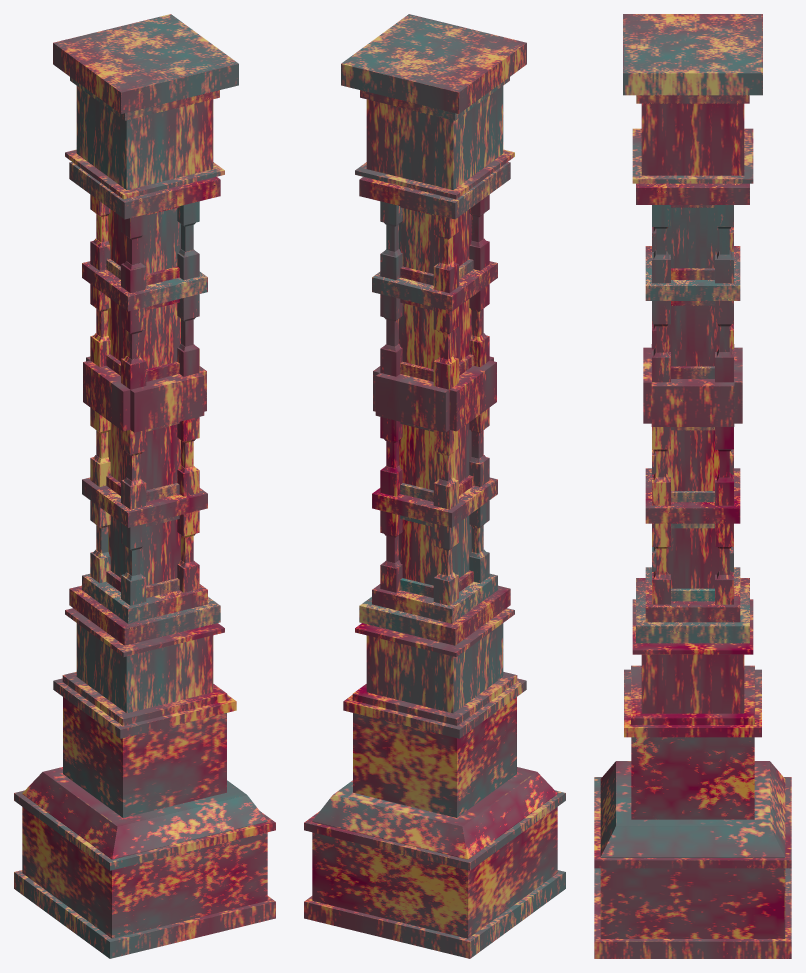
Rendered from desert stone pillar.fbx.
The picture shows the model from 3 angles, left to right: view 1: azimuth 30°, elevation 25°; view 2: azimuth 150°, elevation 25°; view 3: azimuth 270°, elevation 25°; orthographic projection. The views are drawn at different scales.
Parts seen in each view (by area): view 1: support cubes.001, cube 8.002, cube 1.002, tiny pillar 1.002, cube 7.002, cube 5.002, cube 9.002, cube 2.002, cube 3.002; view 2: support cubes.001, cube 8.002, cube 1.002, tiny pillar 1.002, cube 7.002, cube 5.002, cube 9.002, cube 2.002, cube 3.002; view 3: support cubes.001, cube 8.002, cube 1.002, cube 5.002, tiny pillar 1.002, cube 7.002, cube 9.002, cube 2.002, cube 3.002.
Boxes of the visible parts, x1,y1,x2,y2 form: support cubes.001: (14,14,275,958); cube 8.002: (22,767,267,938); cube 1.002: (76,86,213,713); tiny pillar 1.002: (90,194,199,605); cube 7.002: (63,697,226,817); cube 5.002: (108,208,180,585); cube 9.002: (82,261,207,623); cube 2.002: (69,77,220,645); cube 3.002: (106,206,179,597); support cubes.001: (304,14,565,958); cube 8.002: (312,767,557,938); cube 1.002: (366,86,503,713); tiny pillar 1.002: (380,194,489,605); cube 7.002: (353,697,516,817); cube 5.002: (399,208,471,585); cube 9.002: (372,261,497,623); cube 2.002: (359,77,510,645); cube 3.002: (400,206,473,597); support cubes.001: (594,14,791,958); cube 8.002: (600,761,785,938); cube 1.002: (641,103,744,713); cube 5.002: (666,207,719,588); tiny pillar 1.002: (652,205,733,604); cube 7.002: (631,737,754,819); cube 9.002: (645,246,740,622); cube 2.002: (636,95,749,643); cube 3.002: (671,205,714,601).
Size of the model in its own units: 748 by 3662 by 748.
